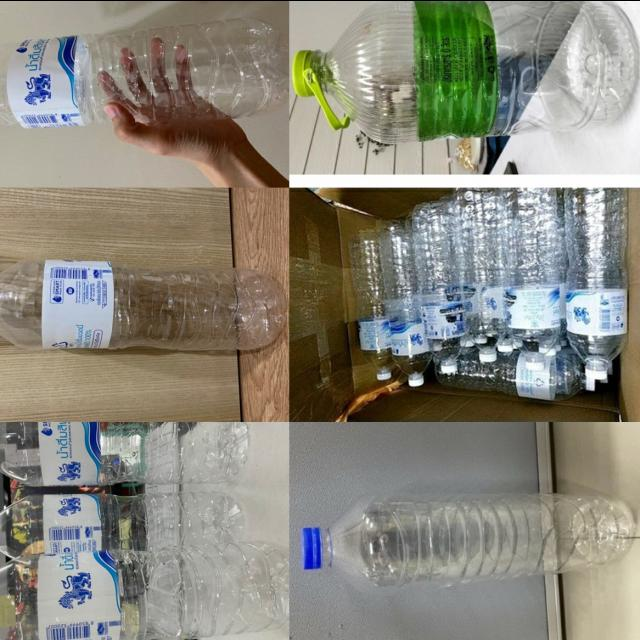plastik: (292, 0, 636, 142), (301, 493, 634, 594), (0, 17, 287, 127), (0, 541, 288, 640), (0, 258, 286, 349), (0, 491, 243, 558), (0, 421, 248, 485), (564, 187, 627, 388), (410, 195, 467, 374), (452, 188, 510, 361), (505, 187, 567, 344), (379, 217, 432, 386), (435, 345, 594, 400), (349, 228, 394, 379)
